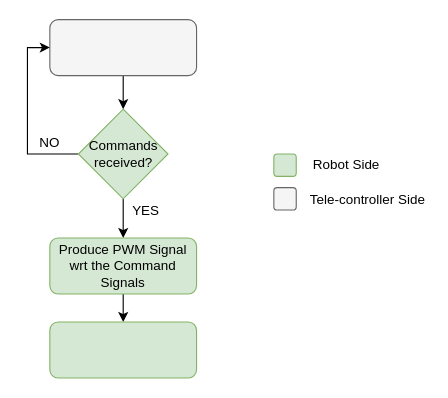
Image size: 448x398. Some labels were removed from this diagram. Each missing label, with the centre of its shape:
"Command Signals Sent from the Tele-controller" goes at (x=123, y=47).
"Drive DC Motors wrt to the Commands" goes at (x=123, y=349).
